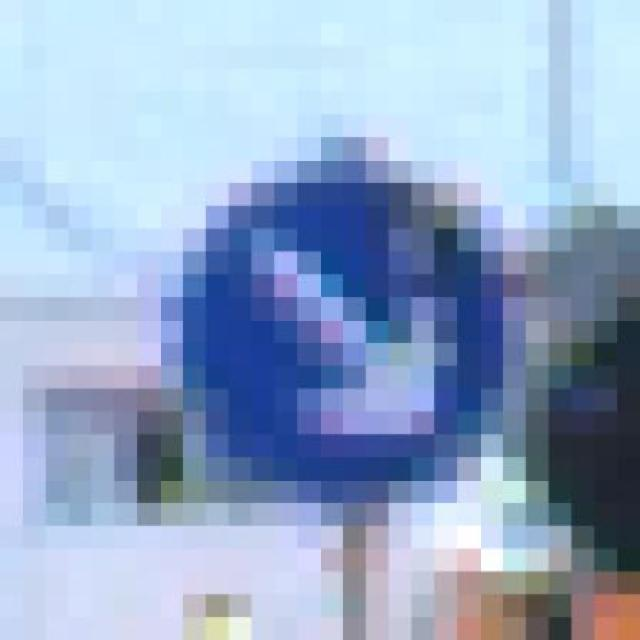Keep-Right: (114, 160, 526, 526)
